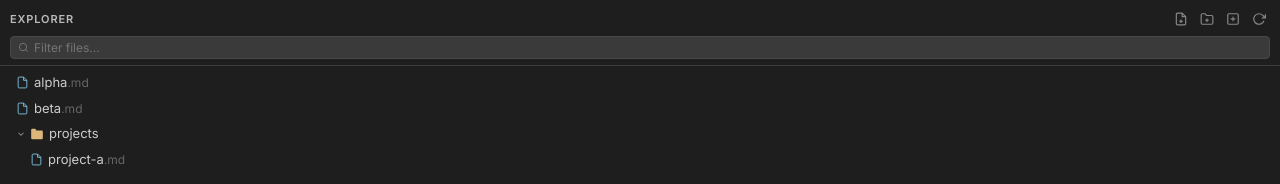
FileTree › file selection › closes a folder when clicked (toggles from open)
Expected: the text "project-a" is shown, [48,150,104,166]
# Click to close
Click the text "projects" at [74, 133], box [49,125,99,141]
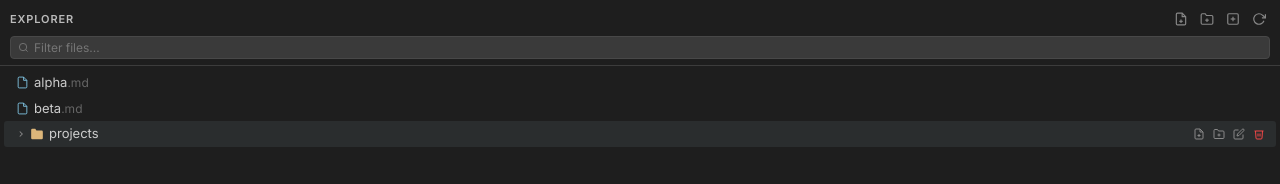
Expected: the text "project-a" is gone
